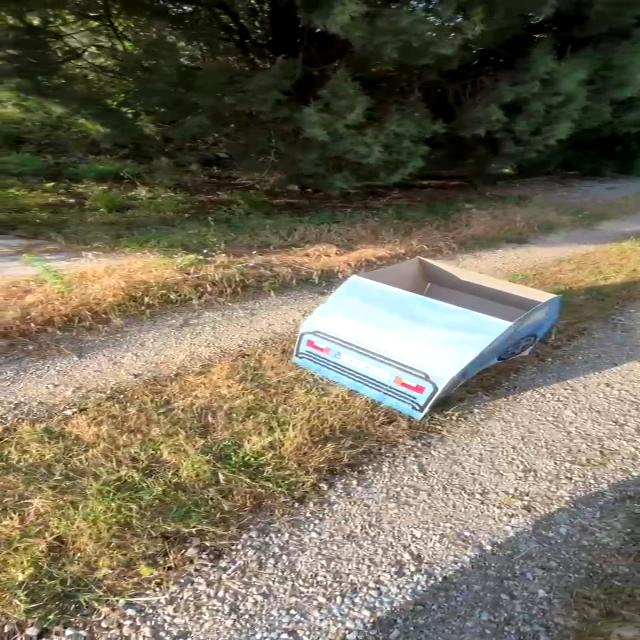blue_car: (213, 247, 596, 430)
